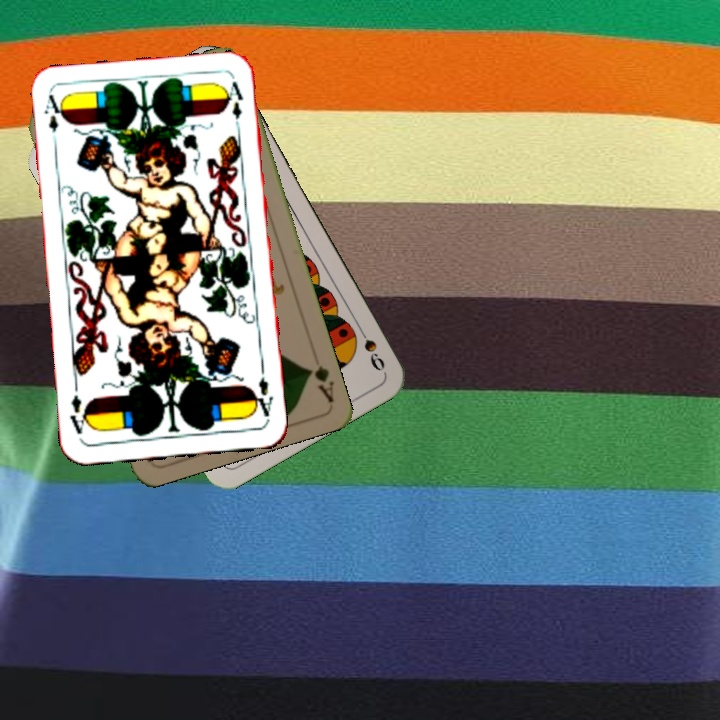EA: (40, 91, 67, 150), (249, 373, 276, 423)
GA: (303, 361, 337, 405)
S9: (352, 319, 388, 374)
